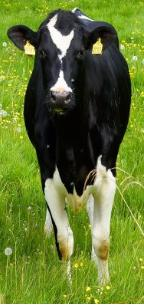cow: (8, 8, 132, 284)
